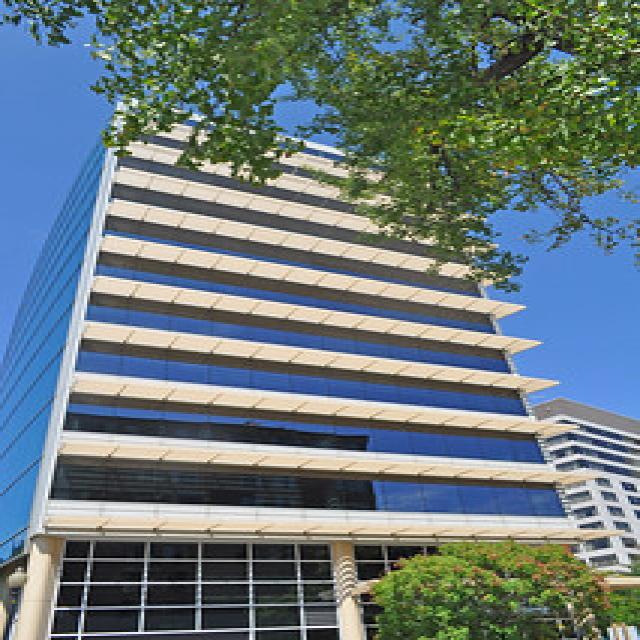Normal_building: (3, 96, 607, 640)
